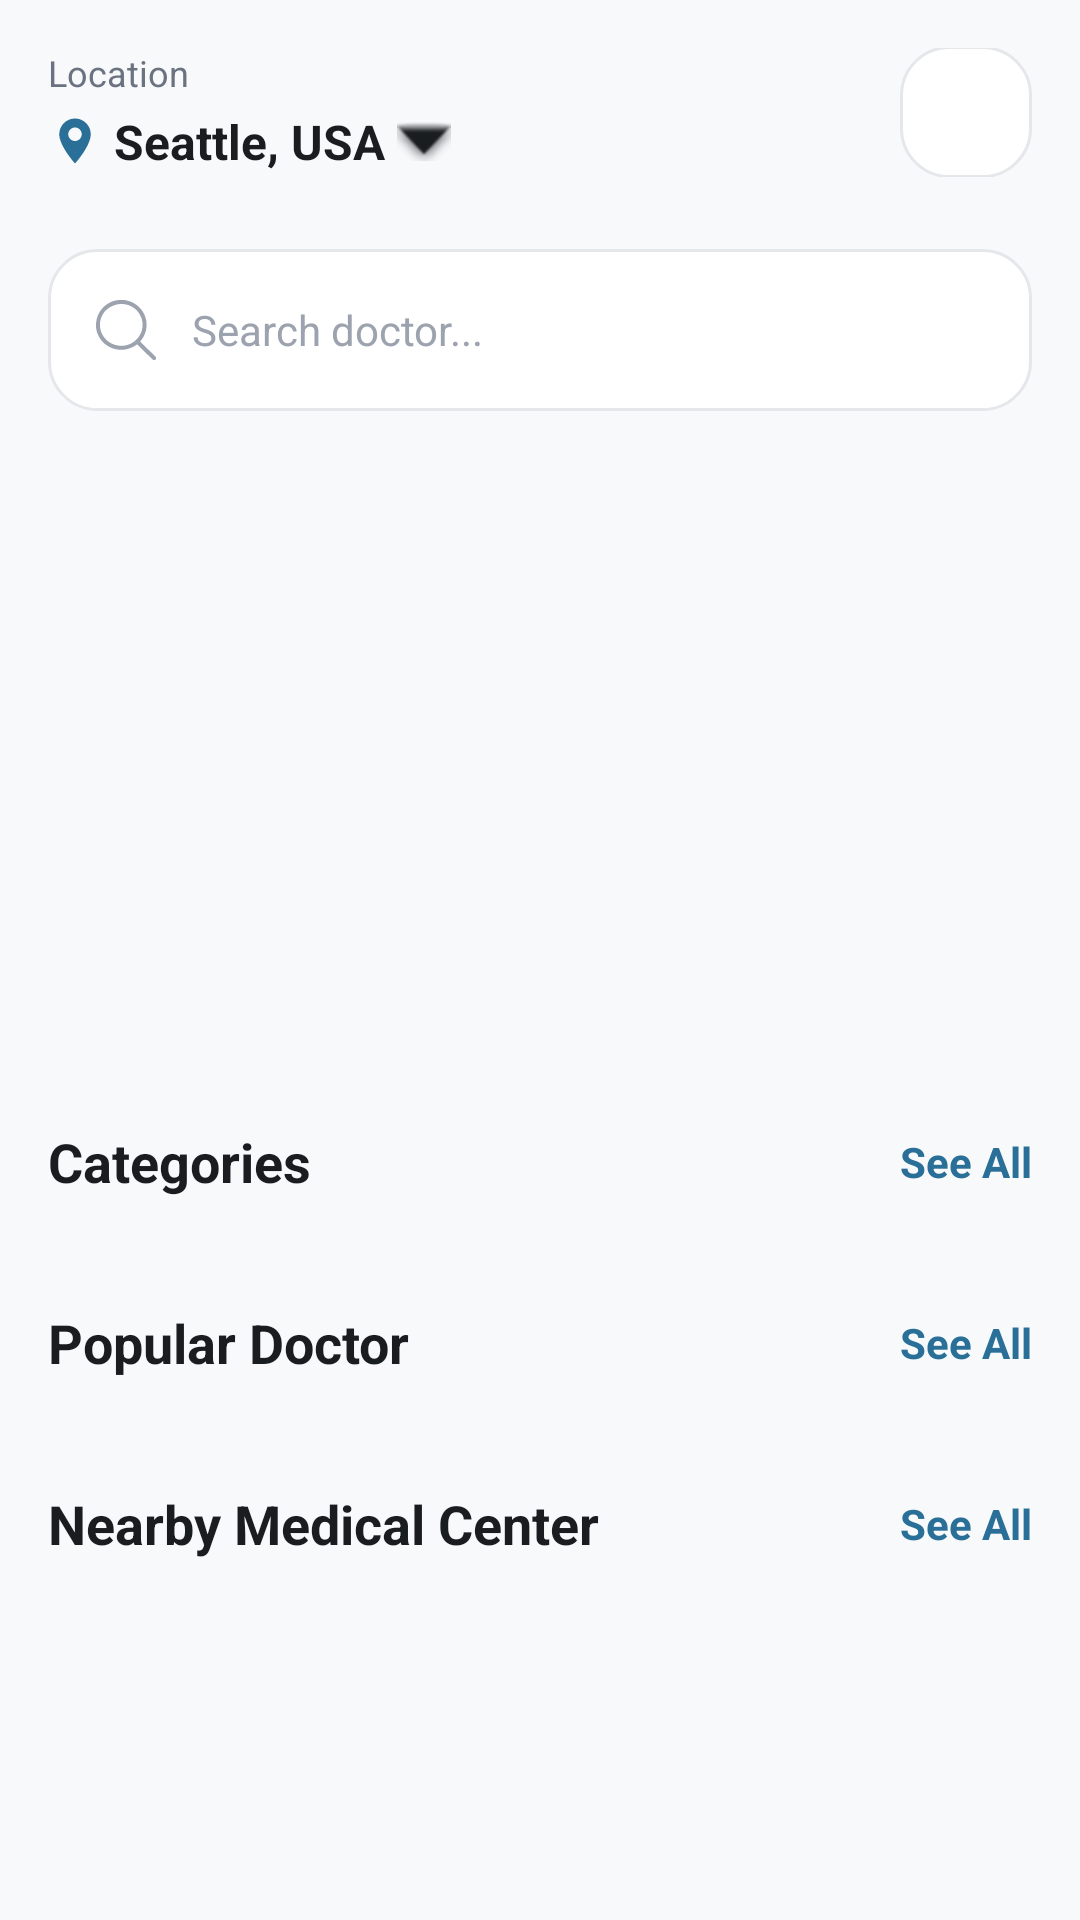

Screen size 1080 × 1920. Icon name, then its center in pixels as point (x, y):
arrow down float: point (424, 141)
